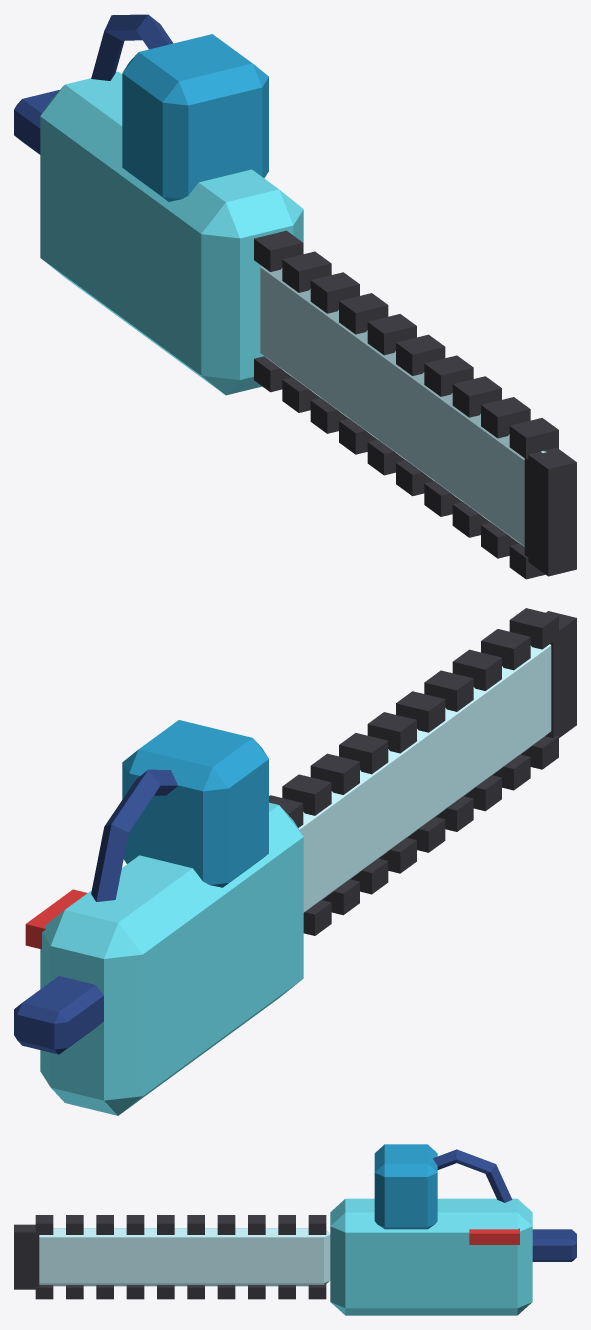
File: DiamondChainsaw.fbx
3 views of the same model, one above another, from view 1: azimuth 30°, elevation 25°; view 2: azimuth 150°, elevation 25°; view 3: azimuth 270°, elevation 25° (orthographic). The views are drawn at different scales.
Visible parts, largest first — view 1: DiamondChainsaw; view 2: DiamondChainsaw; view 3: DiamondChainsaw.
Part boxes in pixels (x1,y1,x2,y2): DiamondChainsaw: (14,14,576,579); DiamondChainsaw: (14,608,576,1115); DiamondChainsaw: (14,1144,576,1315).
Bounding box in the file's own units: 0.57 × 1.39 × 4.45.
Materials: 1 (1 with a texture image).
